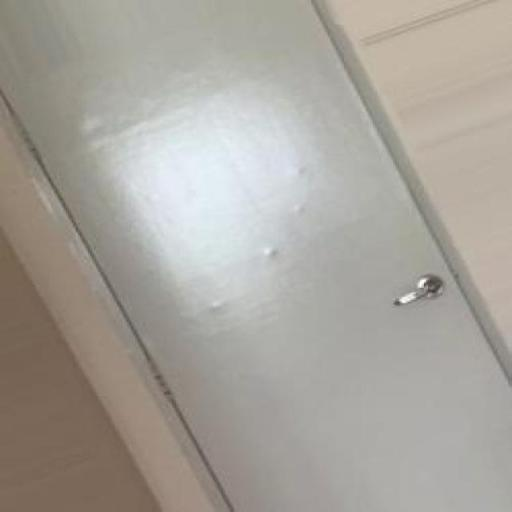door: (0, 0, 509, 510)
